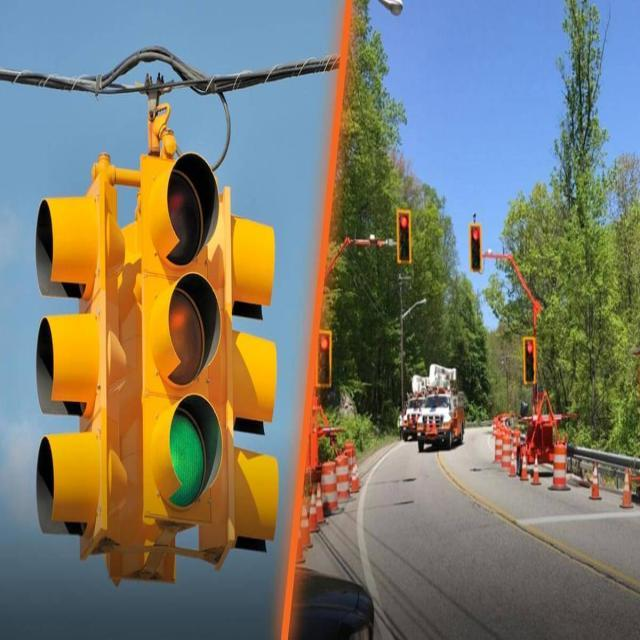suv: (34, 154, 128, 560), (140, 149, 225, 532), (316, 329, 332, 388), (396, 208, 412, 264), (522, 336, 536, 386), (469, 222, 482, 272)
